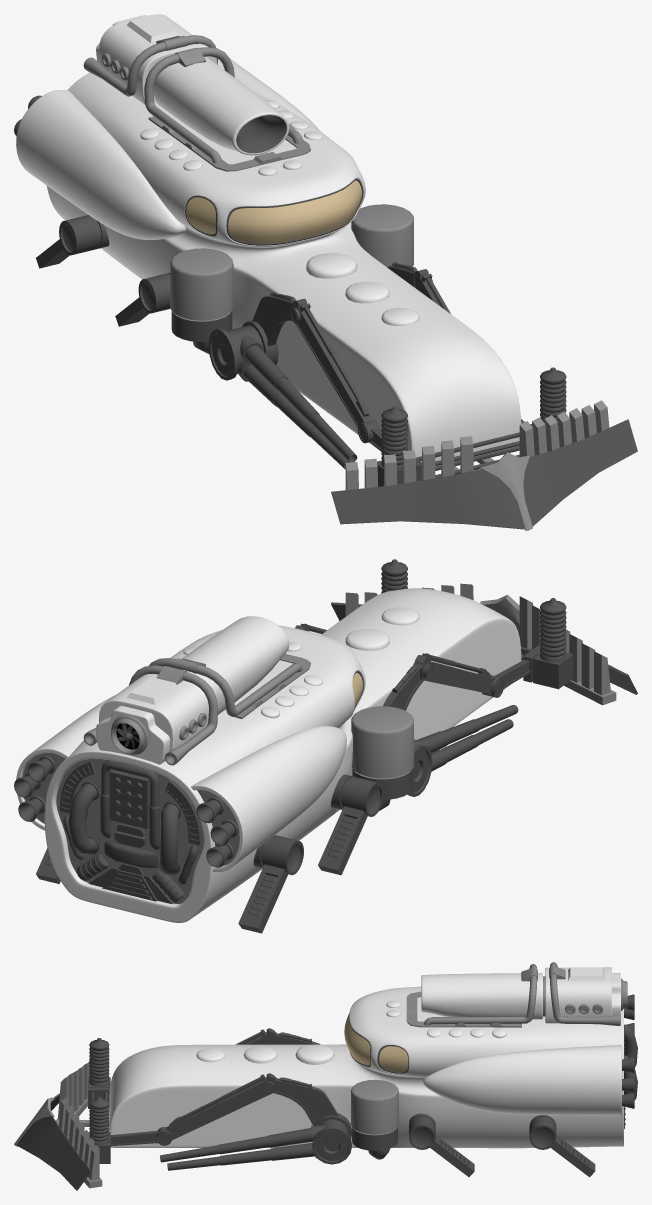
The model's file is truck1.obj.
3 views of the same model, one above another, from view 1: azimuth 30°, elevation 25°; view 2: azimuth 150°, elevation 25°; view 3: azimuth 270°, elevation 25° (orthographic). The views are drawn at different scales.
Parts seen in each view (by area): view 1: truck1; view 2: truck1; view 3: truck1.
Boxes of the visible parts, x1,y1,x2,y2 form: truck1: (14, 14, 637, 530); truck1: (14, 559, 637, 933); truck1: (14, 962, 637, 1190).
Bounding box in the file's own units: 2.4 × 1.79 × 5.74.
1 material, 1 textured.
